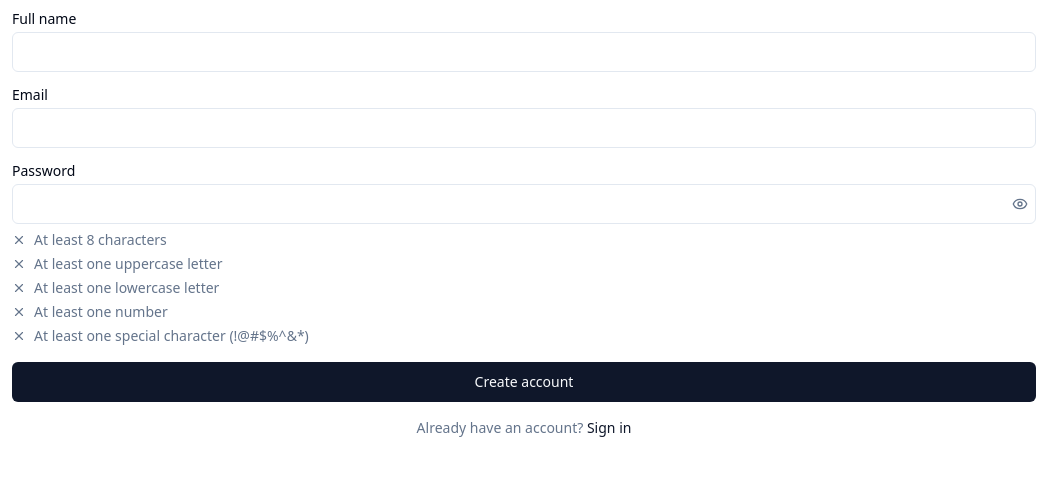
Test: RegisterForm › shows a banner for a duplicate email (409)
In the field labelled "Full name": (524, 52) [12,32,1036,72], type "Jane Doe"
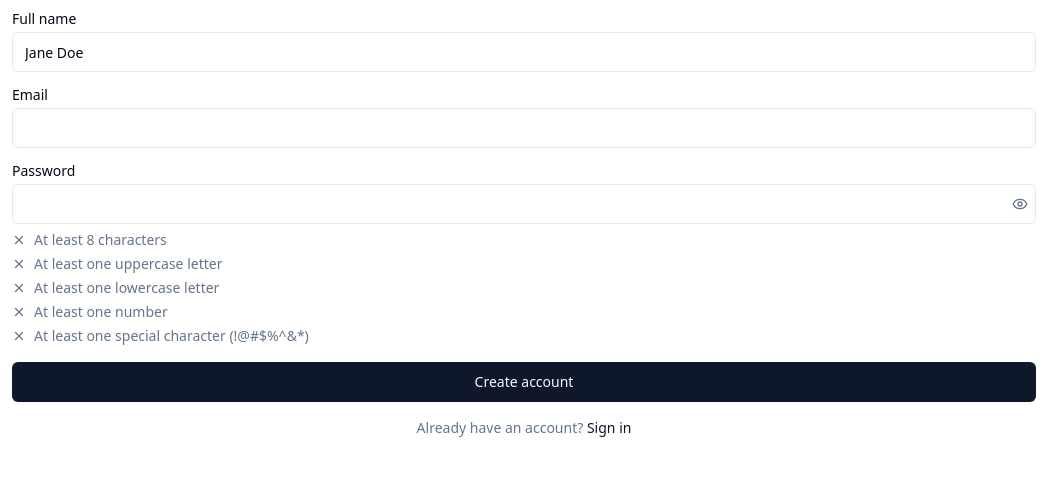
In the field labelled "Email": (524, 128) [12,108,1036,148], type "jane@example.com"
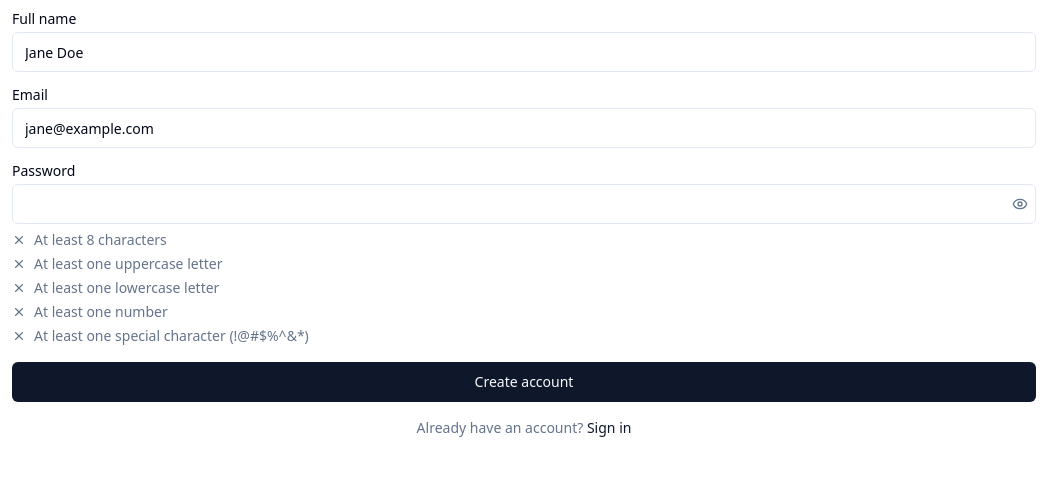
In the password field labelled "Password": (524, 204) [12,184,1036,224], type "Password1!"
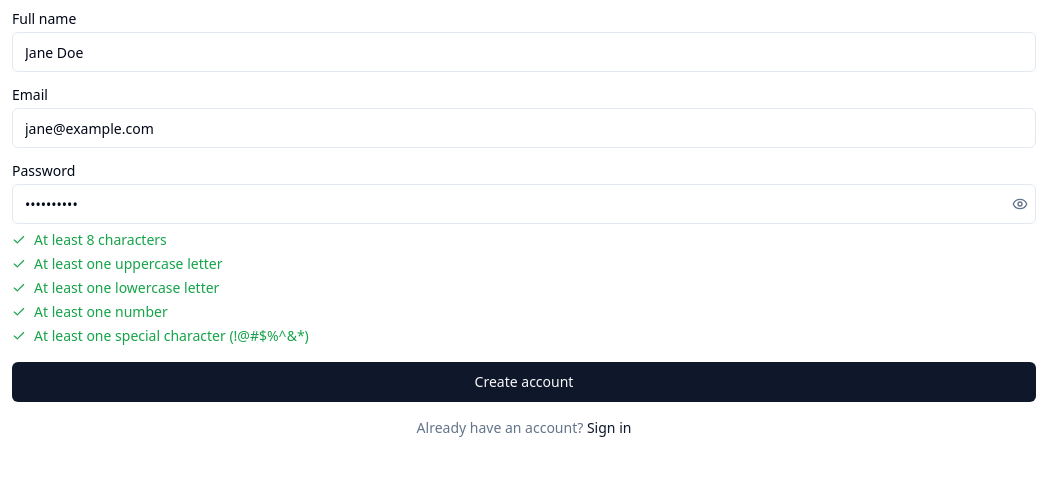
Click the button "Create account": (524, 382) [12,362,1036,402]
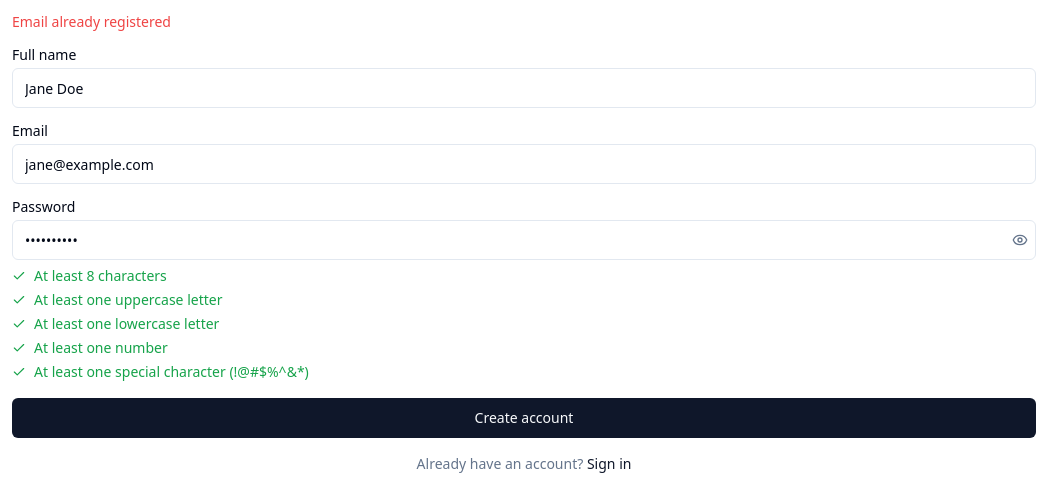
Now the text "Email already registered" is shown, box [12,12,171,31]
